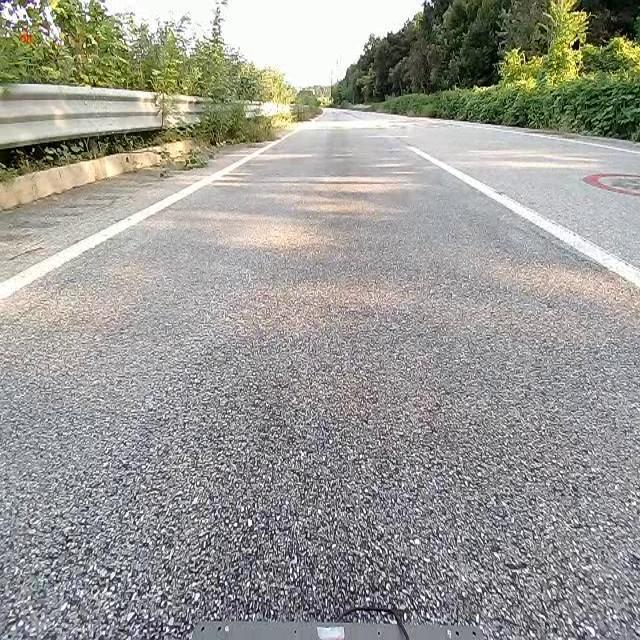Lane: (0, 123, 298, 305), (0, 130, 294, 304), (408, 140, 640, 308), (408, 145, 639, 288)
